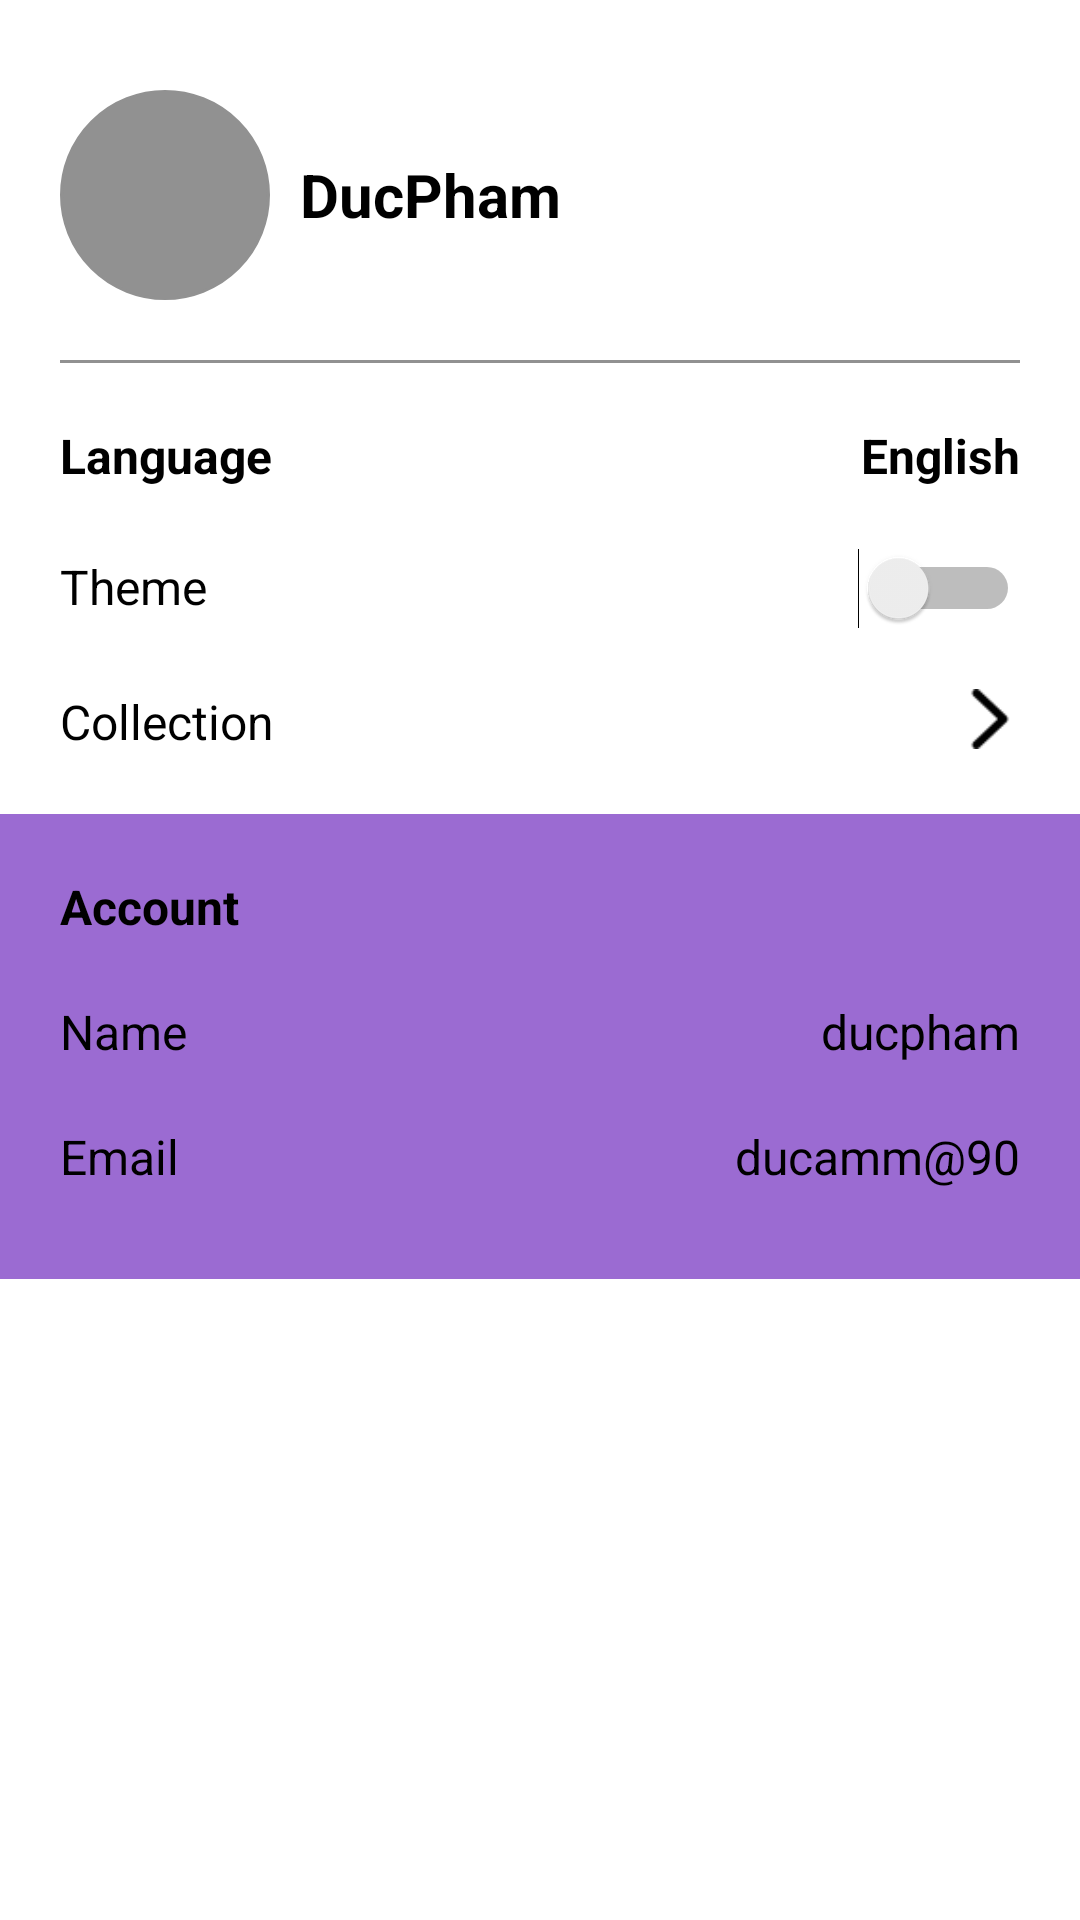

Where icons sit on this 1080x1920 app screen, as (x1, y1, x2, y2):
see more: (971, 689, 1009, 749)
